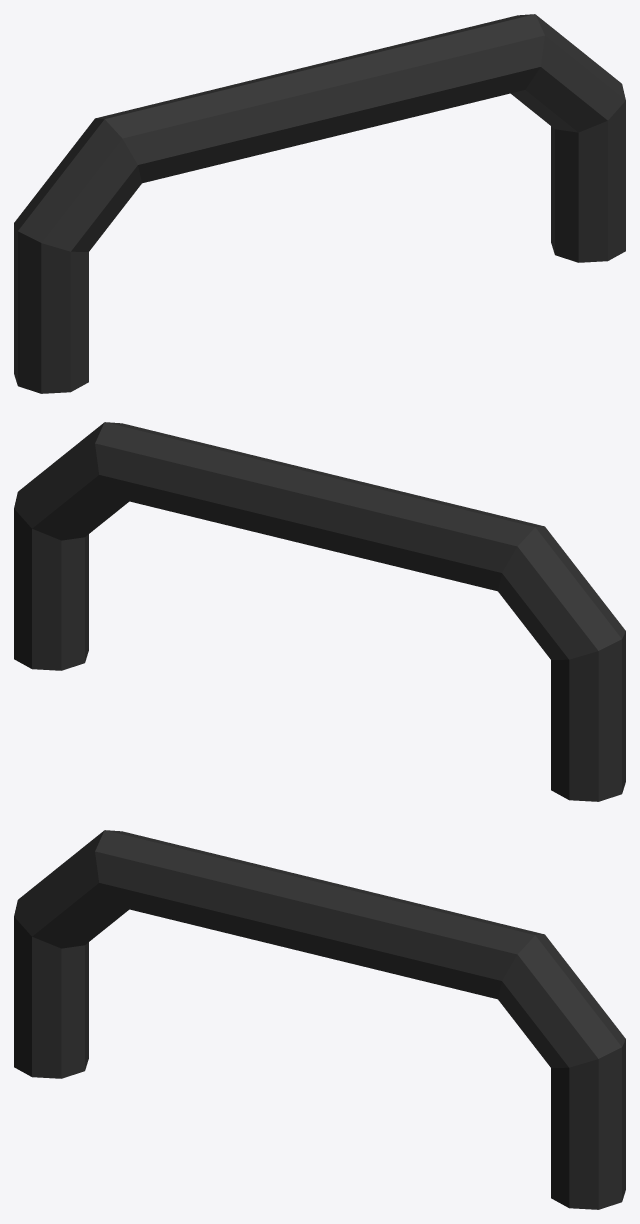
The model's file is HJD_SFB_Fence_01.fbx.
The picture shows the model from 3 angles, top to bottom: view 1: azimuth 30°, elevation 25°; view 2: azimuth 150°, elevation 25°; view 3: azimuth 330°, elevation 25°; orthographic projection.
Visible parts, largest first — view 1: HJD_SFB_Asset; view 2: HJD_SFB_Asset; view 3: HJD_SFB_Asset.
Boxes of the visible parts, x1,y1,x2,y2 form: HJD_SFB_Asset: [14, 14, 625, 393]; HJD_SFB_Asset: [14, 422, 625, 801]; HJD_SFB_Asset: [14, 830, 625, 1209].
Bounding box in the file's own units: 90 × 35 × 10.
